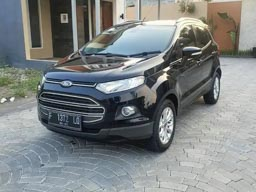plat: (47, 112, 80, 130)
